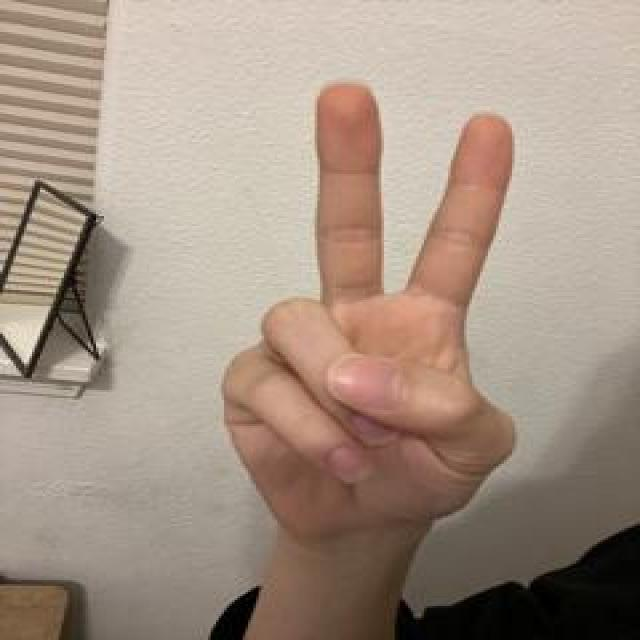V: (216, 73, 523, 547)
